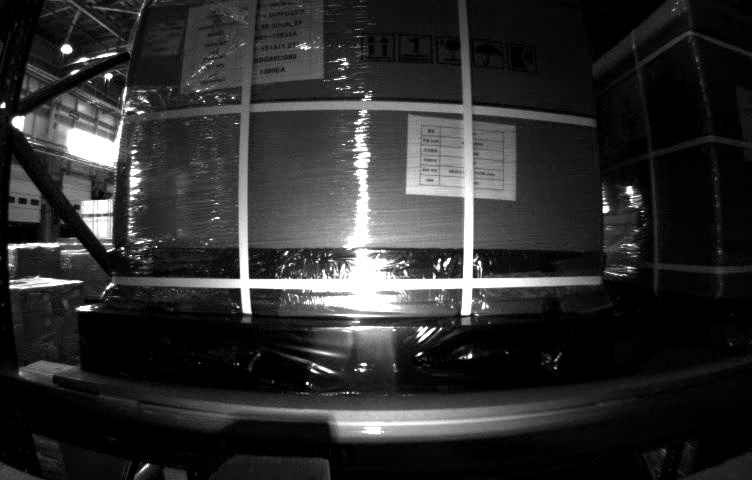True Barcode: (144, 24, 181, 56)
